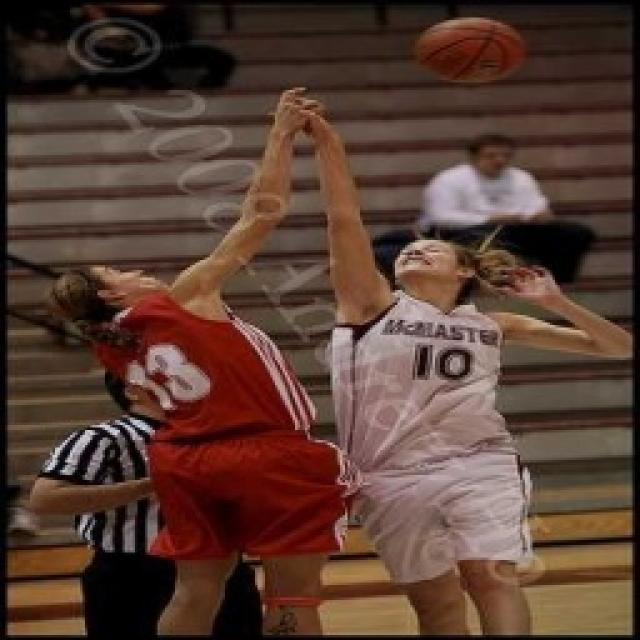basketball: (405, 11, 535, 92)
